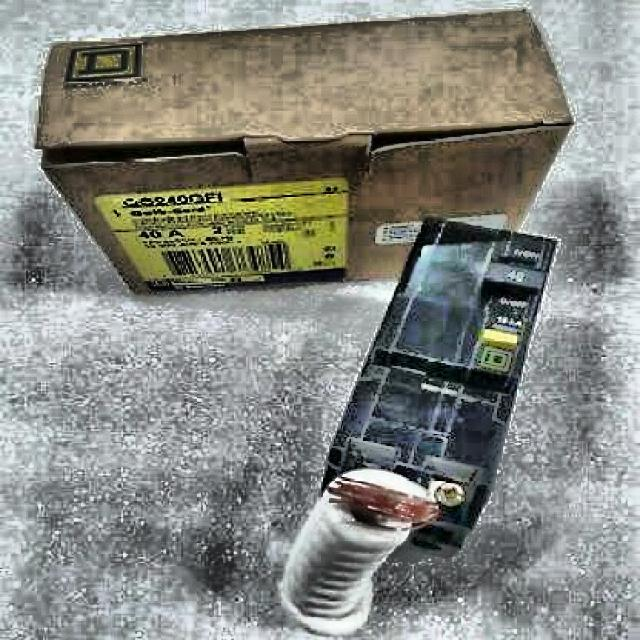Cardbox: (26, 6, 578, 298)
